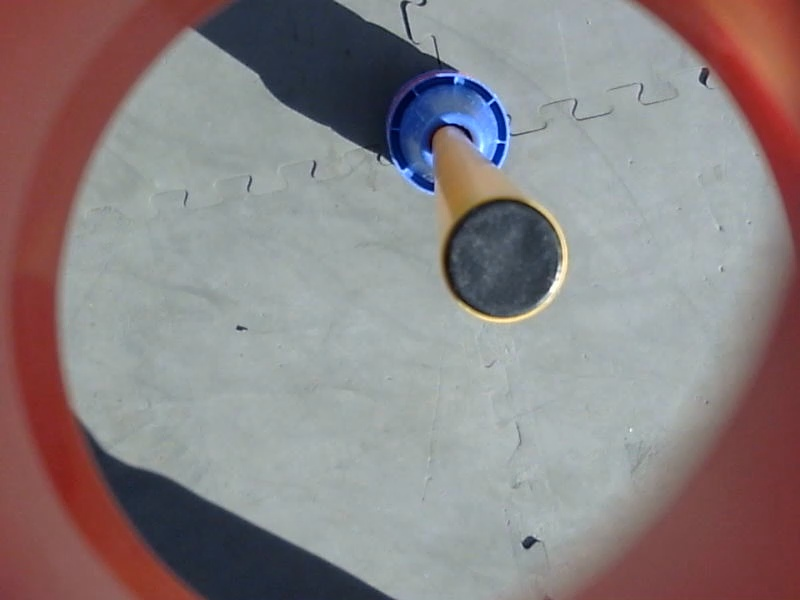tip: (434, 190, 575, 327)
